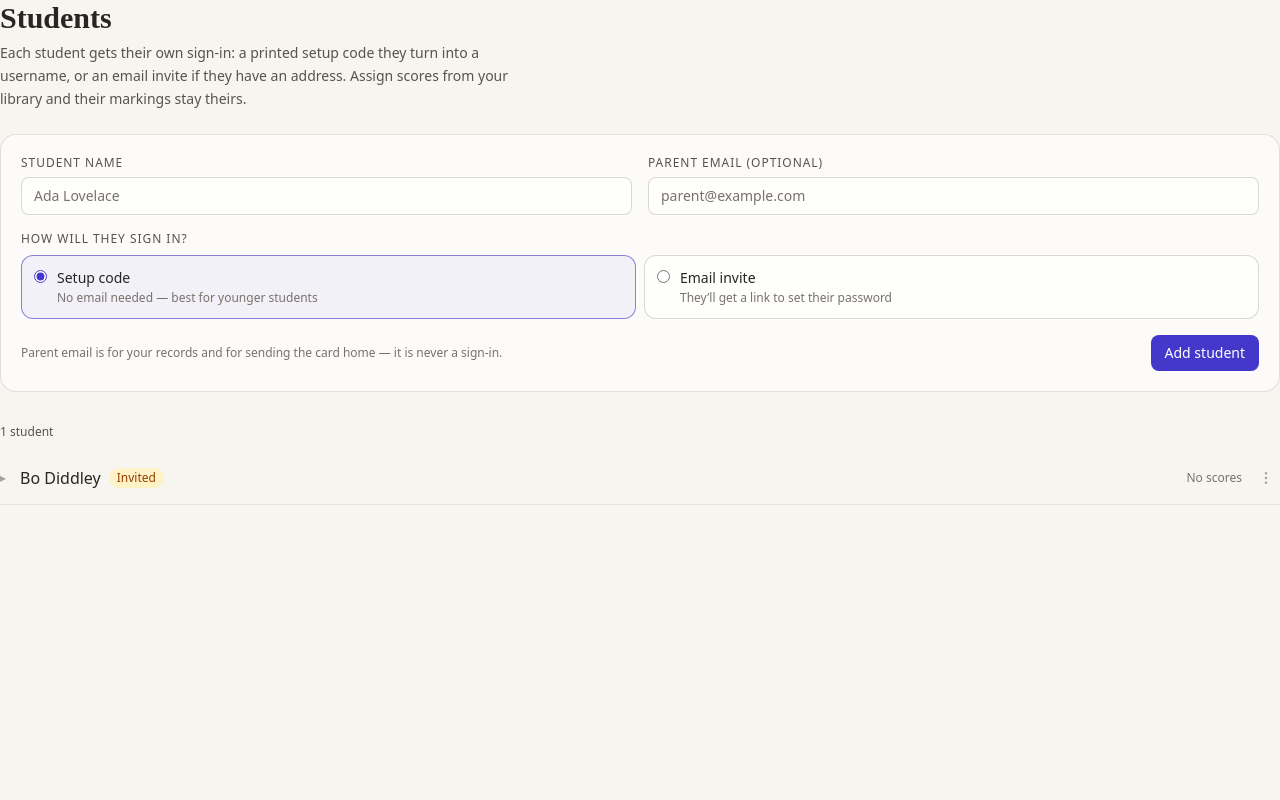
Scenario: RosterPage › takes the confirmation down before the code goes up, however slow the reload is
Click the button named "Student actions" at (1266, 478), box [1252,464,1279,492]
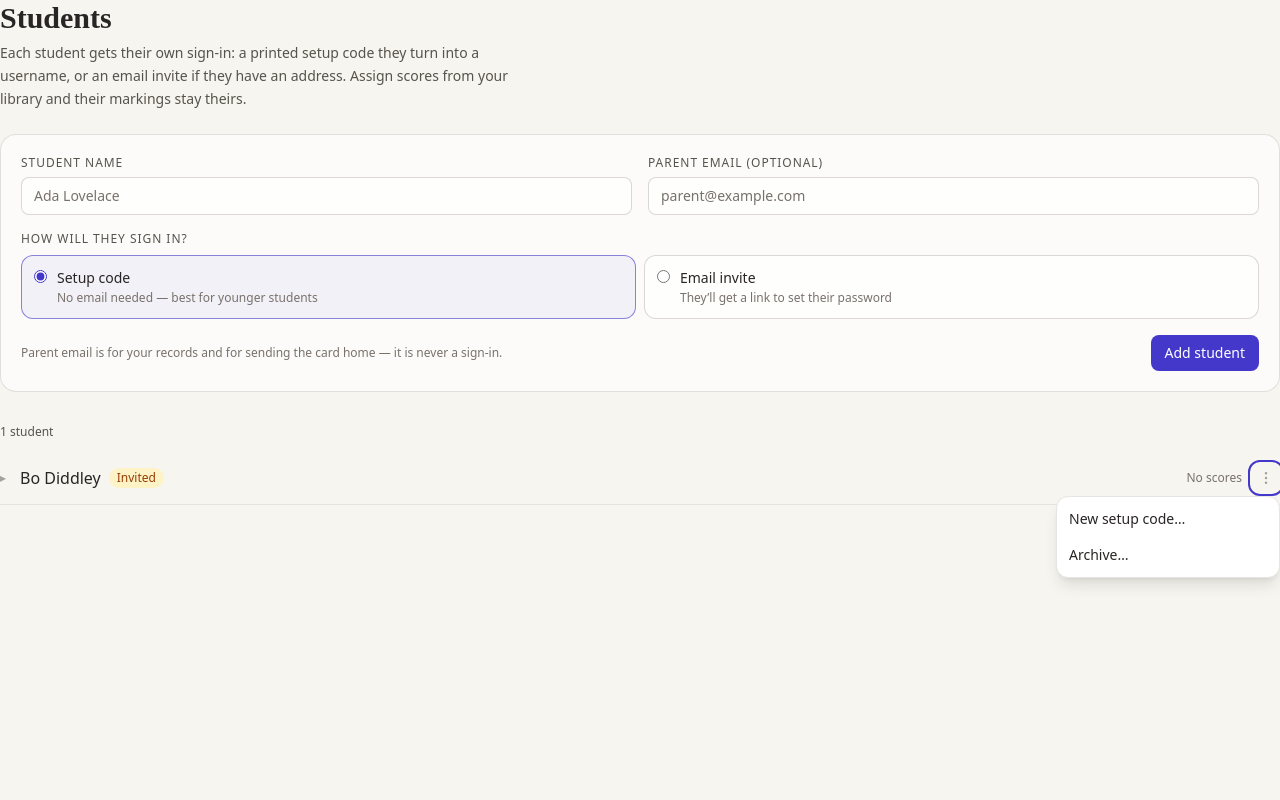
Click the menu item "New setup code…" at (1168, 519), box [1057,501,1279,537]
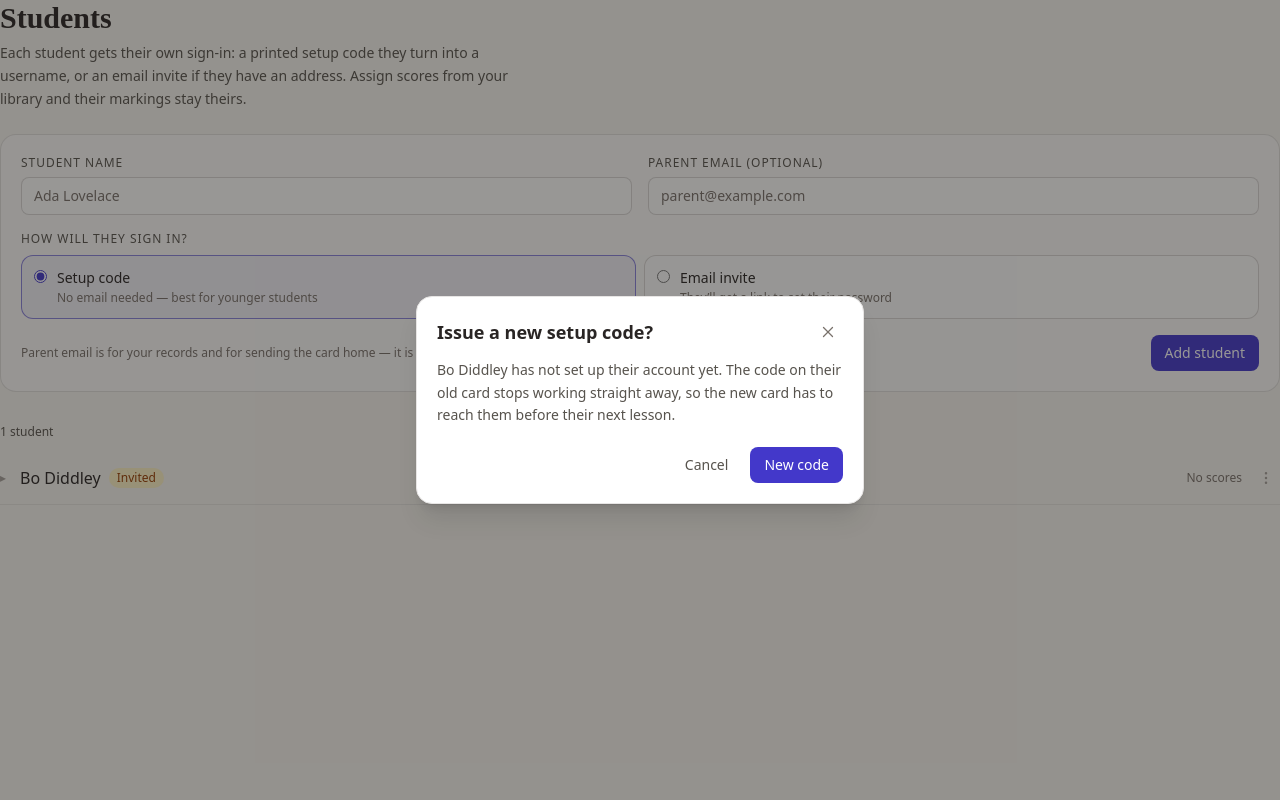
Click the button "New code" at (797, 465), box [750,447,843,483]
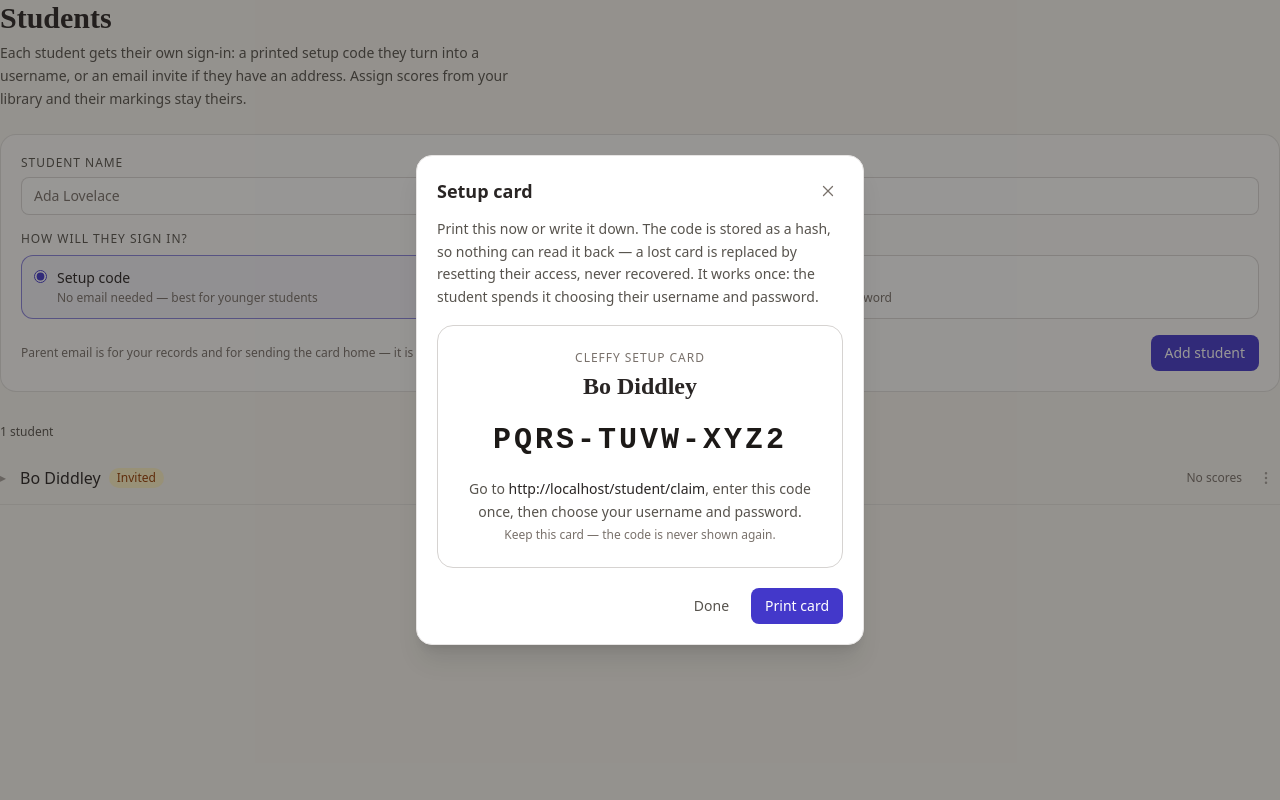
Check: the text "PQRS-TUVW-XYZ2" is shown, box [493,423,787,457]
Check: the heading "Issue a new setup code?" is gone
